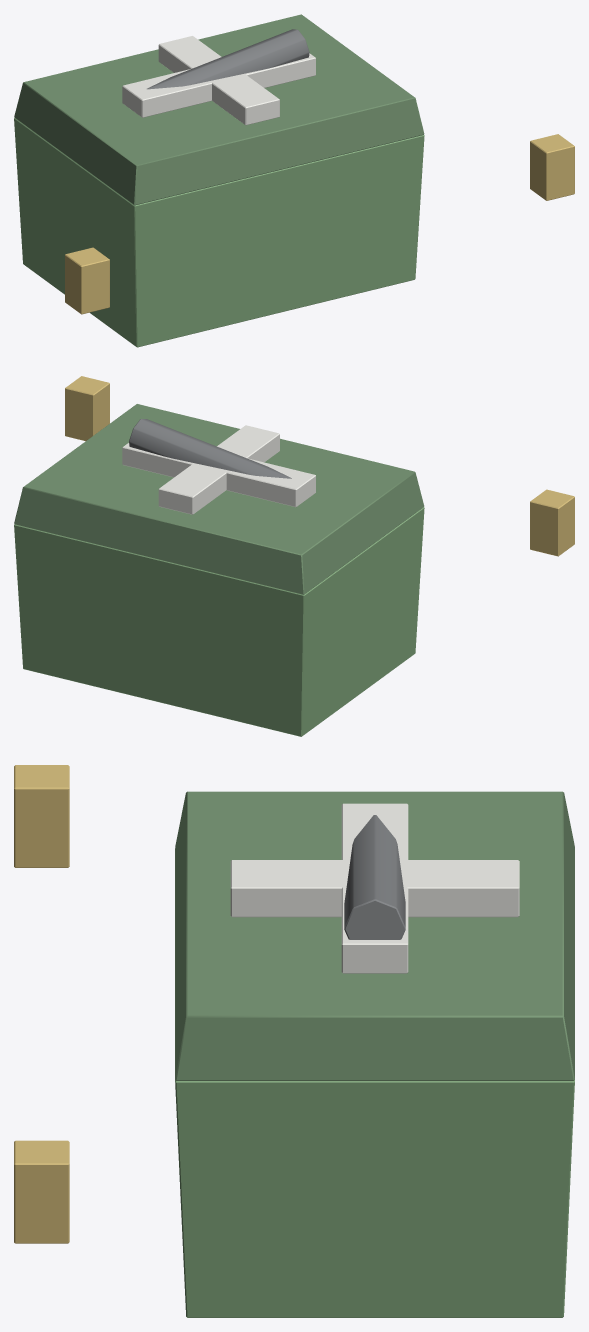
Rendered from IT_medkit_large.fbx.
The picture shows the model from 3 angles, top to bottom: view 1: azimuth 30°, elevation 25°; view 2: azimuth 150°, elevation 25°; view 3: azimuth 270°, elevation 25°; orthographic projection. The views are drawn at different scales.
Visible parts, largest first — view 1: IT_medkit_large; view 2: IT_medkit_large; view 3: IT_medkit_large.
Part boxes in pixels (x1,y1,x2,y2): IT_medkit_large: (14,14,574,347); IT_medkit_large: (14,376,574,736); IT_medkit_large: (14,765,574,1317).
Bounding box in the file's own units: 0.85 × 0.3671 × 0.505.
